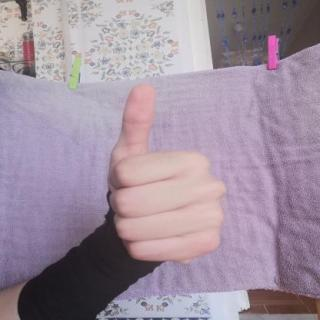ALIF: (85, 72, 242, 270)
